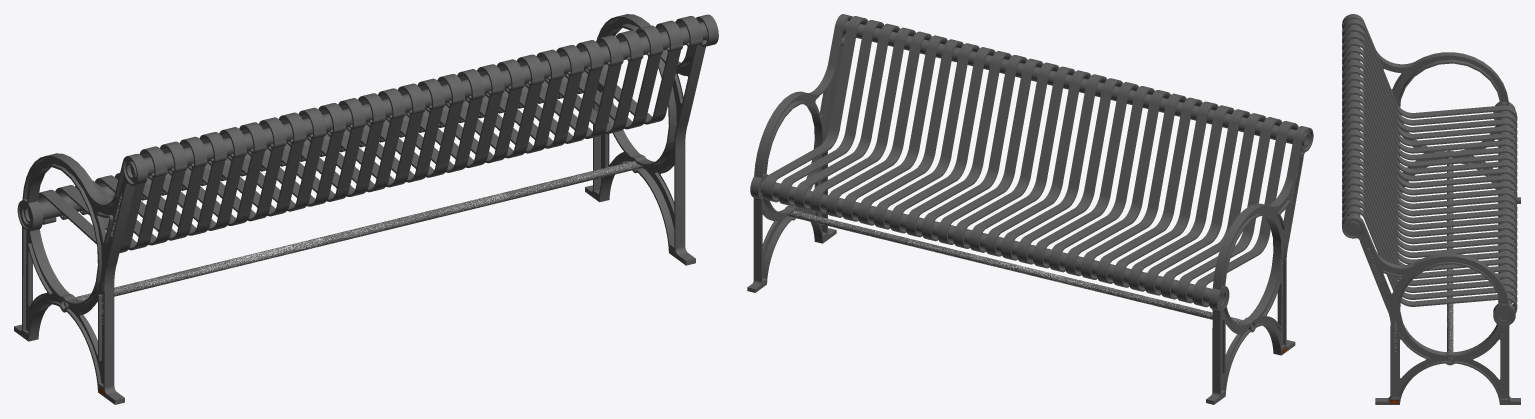
3 views of the same model, side by side, from view 1: azimuth 30°, elevation 25°; view 2: azimuth 150°, elevation 25°; view 3: azimuth 270°, elevation 25° (orthographic). The views are drawn at different scales.
Parts seen in each view (by area): view 1: mesh6_mesh6-geometry, mesh100_mesh100-geometry, mesh196_mesh196-geometry, mesh2_mesh2-geometry, mesh197_mesh197-geometry, mesh214_mesh214-geometry, mesh212_mesh212-geometry, mesh227_mesh227-geometry, mesh219_mesh219-geometry, mesh200_mesh200-geometry, mesh201_mesh201-geometry, mesh221_mesh221-geometry (+21 smaller); view 2: mesh6_mesh6-geometry, mesh100_mesh100-geometry, mesh196_mesh196-geometry, mesh2_mesh2-geometry, mesh129_mesh129-geometry, mesh220_mesh220-geometry, mesh205_mesh205-geometry, mesh206_mesh206-geometry, mesh216_mesh216-geometry, mesh212_mesh212-geometry, mesh219_mesh219-geometry, mesh221_mesh221-geometry (+21 smaller); view 3: mesh100_mesh100-geometry, mesh6_mesh6-geometry, mesh200_mesh200-geometry, mesh212_mesh212-geometry, mesh213_mesh213-geometry, mesh210_mesh210-geometry, mesh216_mesh216-geometry, mesh221_mesh221-geometry, mesh211_mesh211-geometry, mesh217_mesh217-geometry, mesh220_mesh220-geometry, mesh202_mesh202-geometry (+22 smaller).
Boxes of the visible parts, bbox=[...] form: mesh6_mesh6-geometry: bbox=[14, 153, 147, 404]; mesh100_mesh100-geometry: bbox=[585, 14, 718, 265]; mesh196_mesh196-geometry: bbox=[64, 160, 642, 305]; mesh2_mesh2-geometry: bbox=[130, 22, 707, 176]; mesh197_mesh197-geometry: bbox=[38, 146, 167, 253]; mesh214_mesh214-geometry: bbox=[55, 141, 187, 250]; mesh212_mesh212-geometry: bbox=[95, 132, 226, 240]; mesh227_mesh227-geometry: bbox=[438, 49, 563, 158]; mesh219_mesh219-geometry: bbox=[141, 122, 266, 230]; mesh200_mesh200-geometry: bbox=[260, 93, 385, 201]; mesh201_mesh201-geometry: bbox=[557, 20, 682, 129]; mesh221_mesh221-geometry: bbox=[181, 112, 306, 221]; mesh6_mesh6-geometry: bbox=[1206, 126, 1313, 404]; mesh100_mesh100-geometry: bbox=[747, 14, 852, 292]; mesh196_mesh196-geometry: bbox=[787, 210, 1251, 326]; mesh2_mesh2-geometry: bbox=[843, 20, 1306, 144]; mesh129_mesh129-geometry: bbox=[760, 180, 1211, 302]; mesh220_mesh220-geometry: bbox=[985, 70, 1091, 256]; mesh205_mesh205-geometry: bbox=[1065, 90, 1170, 276]; mesh206_mesh206-geometry: bbox=[889, 47, 995, 233]; mesh216_mesh216-geometry: bbox=[1096, 97, 1202, 283]; mesh212_mesh212-geometry: bbox=[1144, 109, 1250, 295]; mesh219_mesh219-geometry: bbox=[1112, 101, 1218, 287]; mesh221_mesh221-geometry: bbox=[1080, 93, 1186, 279]; mesh100_mesh100-geometry: bbox=[1342, 215, 1520, 404]; mesh6_mesh6-geometry: bbox=[1342, 14, 1520, 203]; mesh200_mesh200-geometry: bbox=[1342, 95, 1517, 205]; mesh212_mesh212-geometry: bbox=[1342, 39, 1517, 149]; mesh213_mesh213-geometry: bbox=[1342, 102, 1517, 212]; mesh210_mesh210-geometry: bbox=[1342, 116, 1517, 226]; mesh216_mesh216-geometry: bbox=[1342, 60, 1517, 170]; mesh221_mesh221-geometry: bbox=[1342, 67, 1517, 177]; mesh211_mesh211-geometry: bbox=[1342, 81, 1517, 191]; mesh217_mesh217-geometry: bbox=[1342, 46, 1517, 156]; mesh220_mesh220-geometry: bbox=[1342, 109, 1517, 219]; mesh202_mesh202-geometry: bbox=[1342, 32, 1517, 142].
Size of the model in its own units: 0.8703 by 0.3732 by 0.3214.
